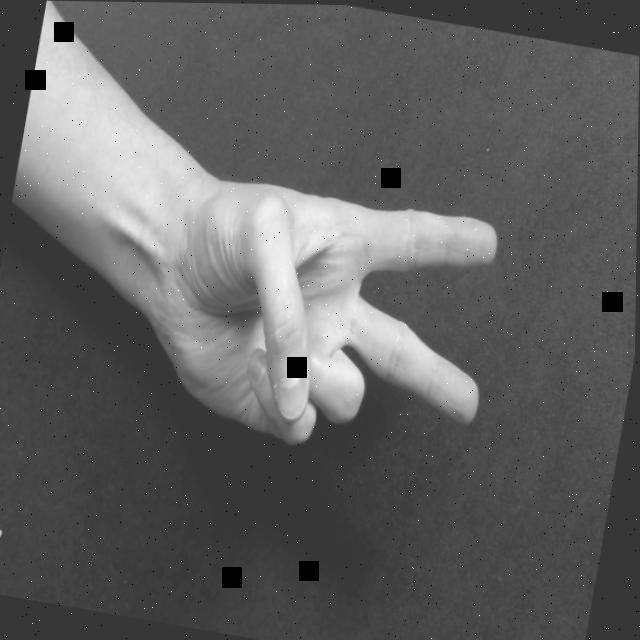Scissors: (136, 166, 512, 478)
